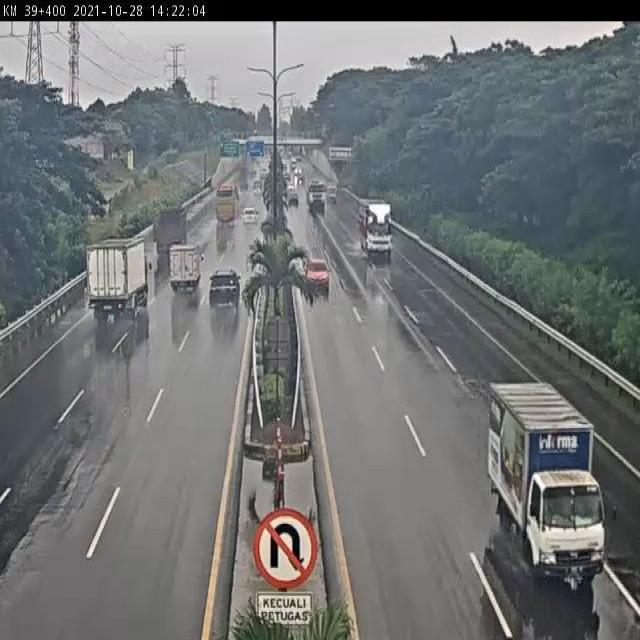big bus: (211, 185, 241, 228)
car: (210, 269, 242, 307), (302, 256, 332, 296), (240, 204, 260, 227)
truck-l-: (86, 234, 151, 318), (360, 203, 398, 261), (146, 210, 186, 262)
truck-s-: (484, 378, 607, 586), (167, 246, 203, 294)
truck-xl-: (306, 179, 327, 212)
